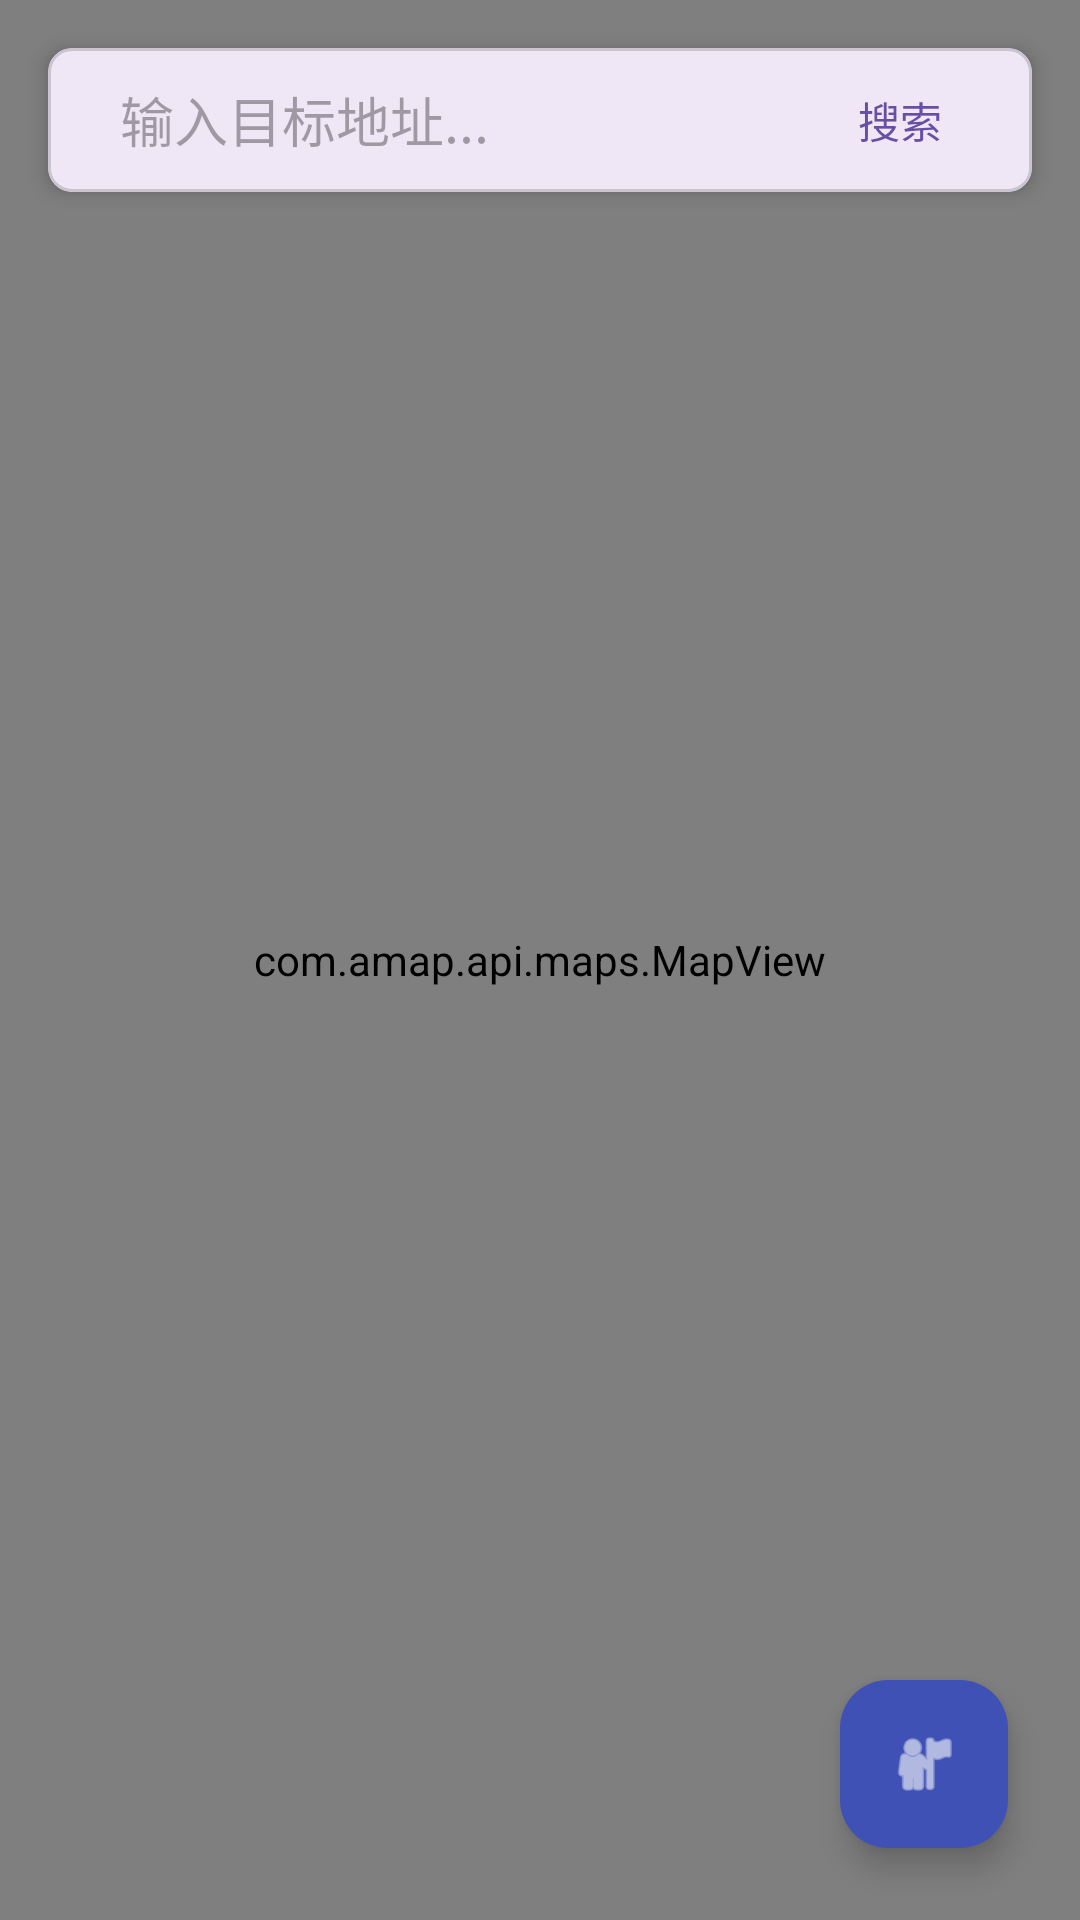

Locate icon controls on the screen. Image size 1080w x 1920h, boxes as (x1, y1, x2, y2).
myplaces: (840, 1680, 1008, 1848)
